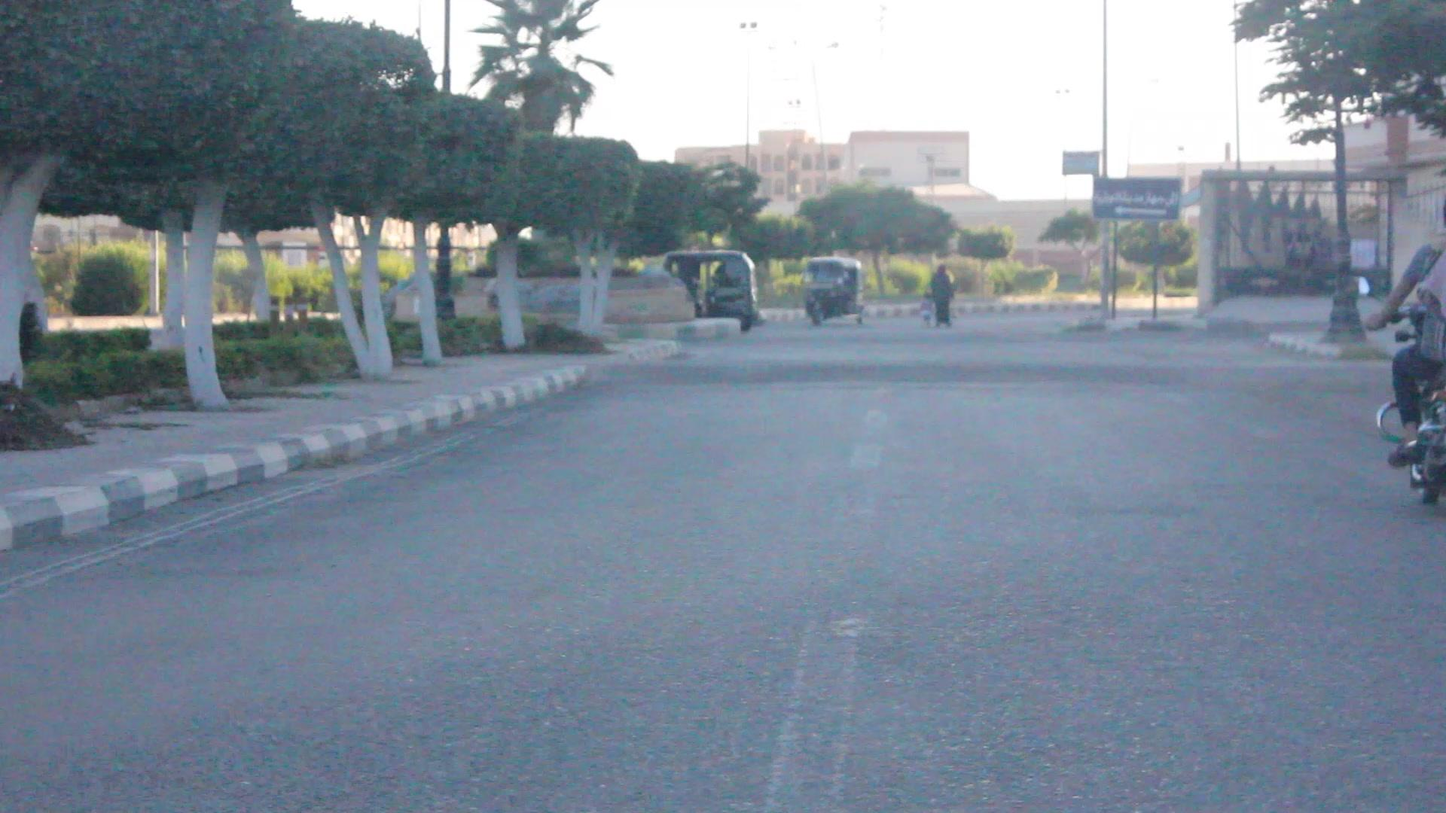Bump: (604, 344, 1380, 401)
